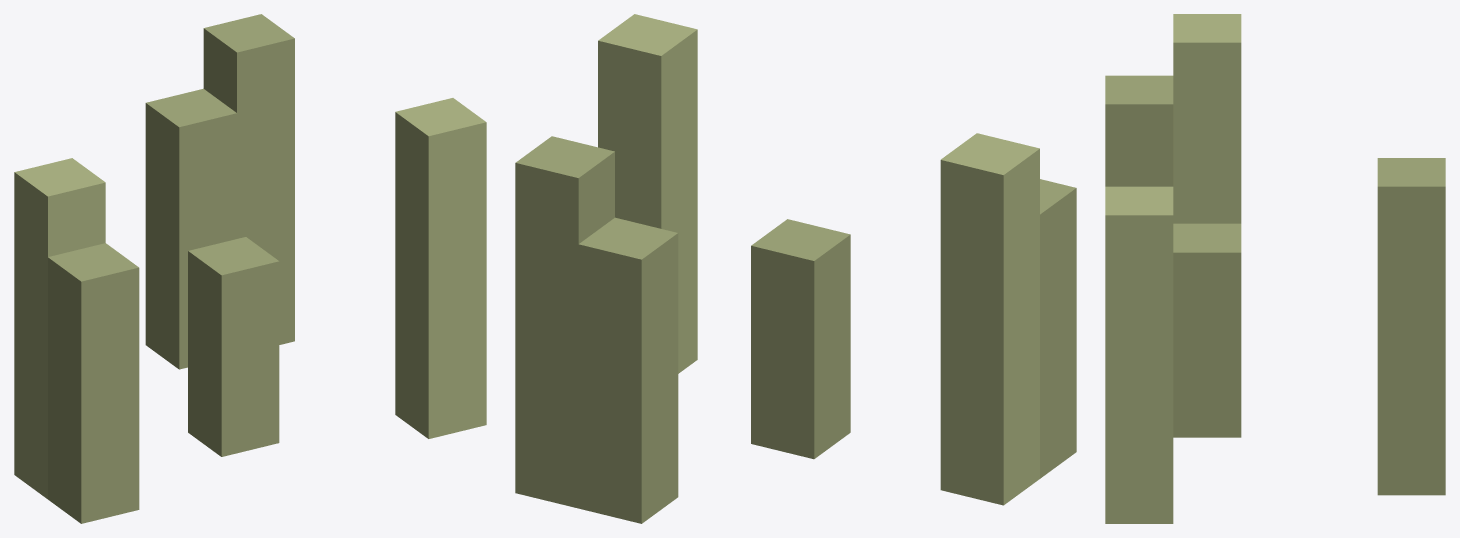
File: juncos_de_playa_05.glb
3 renders of one model, left to right at view 1: azimuth 30°, elevation 25°; view 2: azimuth 150°, elevation 25°; view 3: azimuth 270°, elevation 25°, orthographic. The views are drawn at different scales.
Visible parts, largest first — view 1: juncos_de_playa_05; view 2: juncos_de_playa_05; view 3: juncos_de_playa_05.
Part boxes in pixels (x1,y1,x2,y2): juncos_de_playa_05: [14, 14, 486, 523]; juncos_de_playa_05: [515, 14, 1076, 523]; juncos_de_playa_05: [1105, 14, 1445, 523].
Size of the model in its own units: 0.7 by 0.5 by 0.5.
